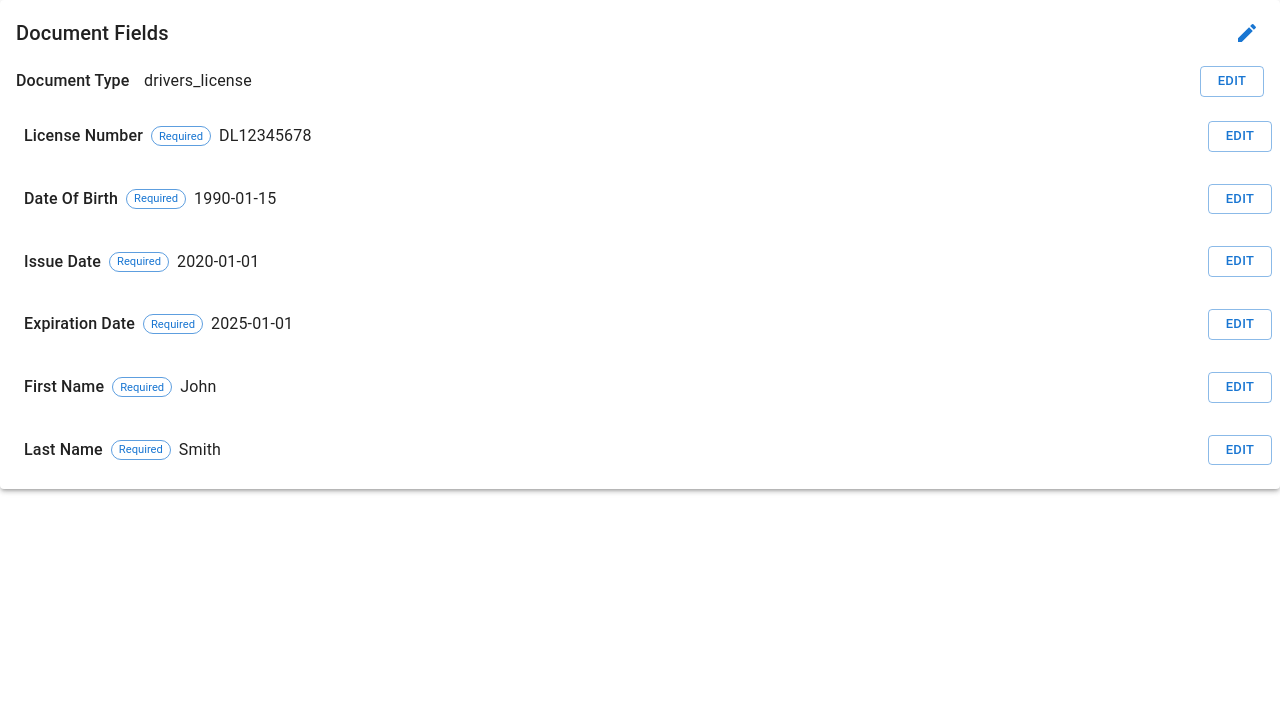
DocumentFields › editing a field shows input and buttons
Click edit to show the input field
Click the button "EDIT" in the row of "DL12345678".
click(1240, 136)  # box [1208,121,1272,152]
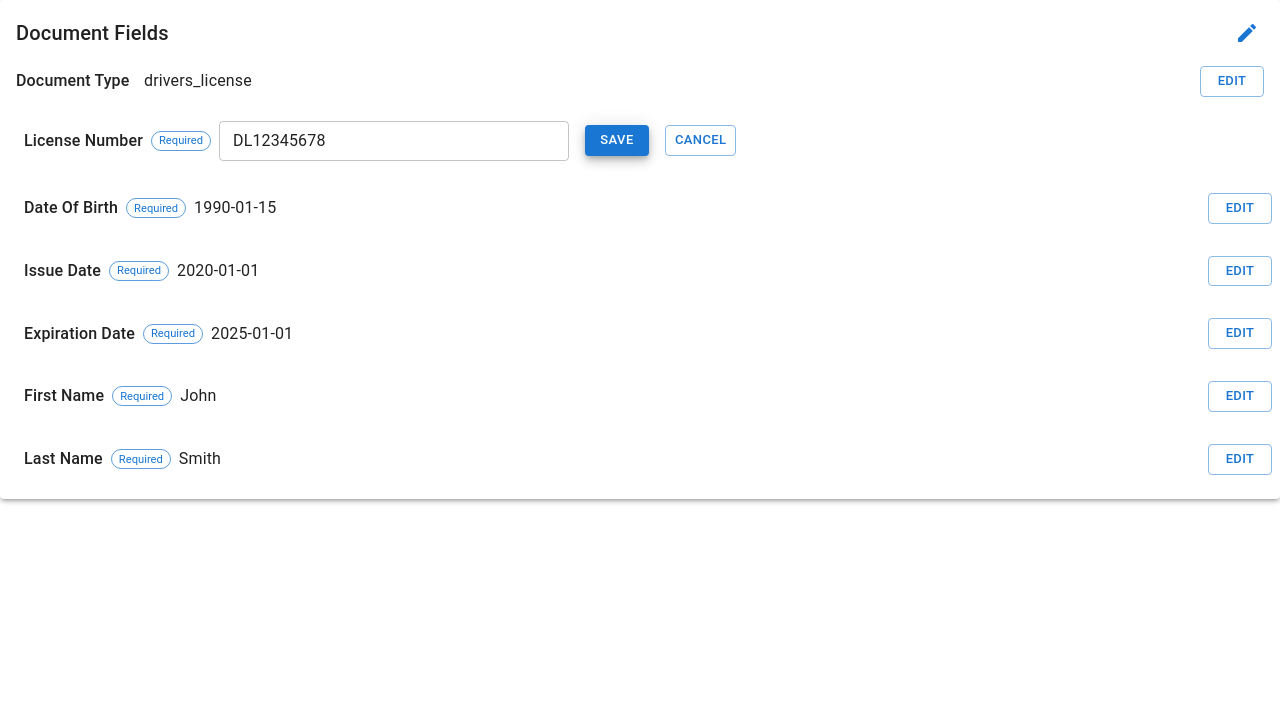
Now the field is shown, box [219,121,569,161]
Now the button "Save" is shown, box [585,125,649,156]
Now the button "Cancel" is shown, box [665,125,736,156]
